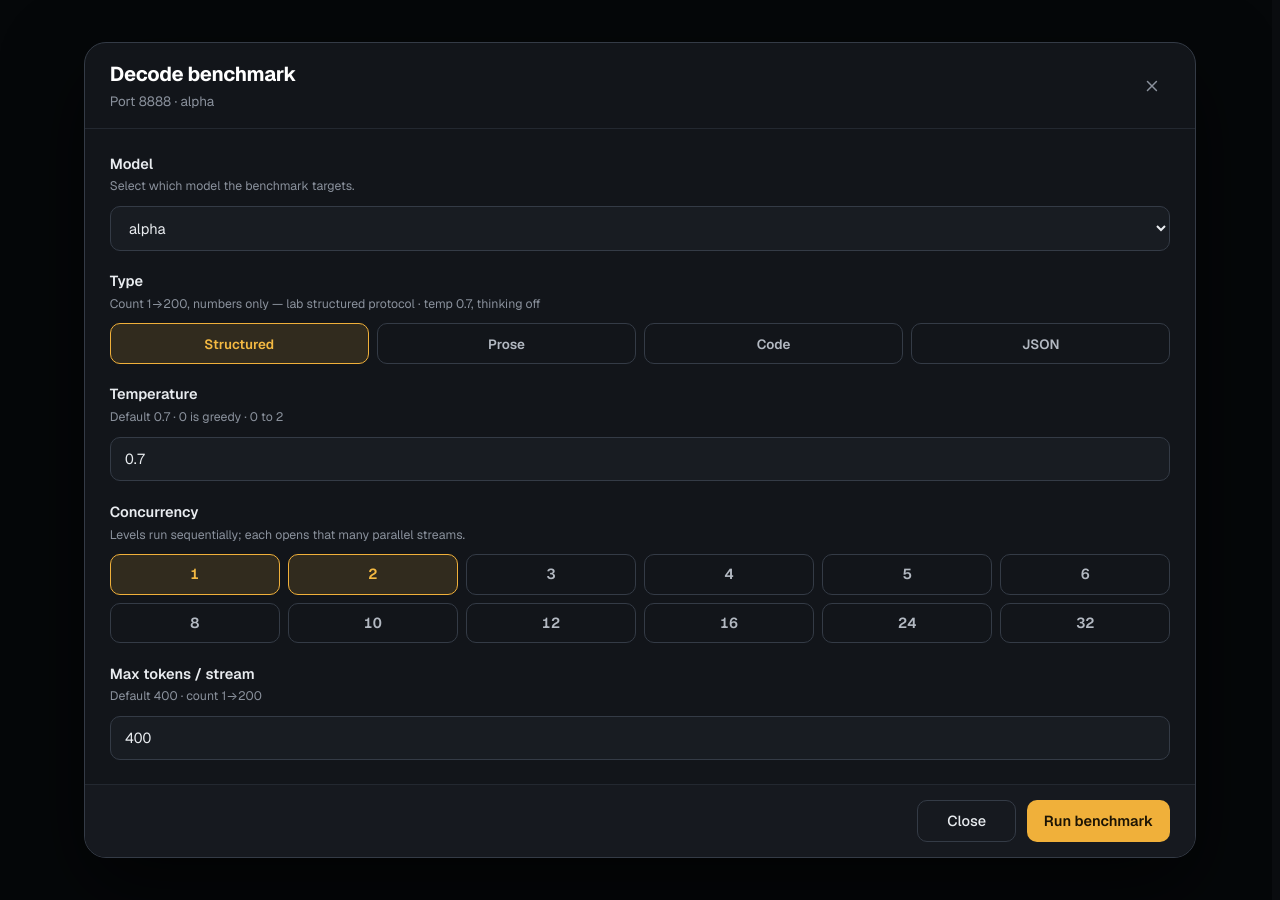
Scenario: decode served-model selection › disables an empty/unavailable discovered list rather than using the old display model
Select "beta" in the dropdown labelled "Model" at (640, 228), box [110,206,1170,251]
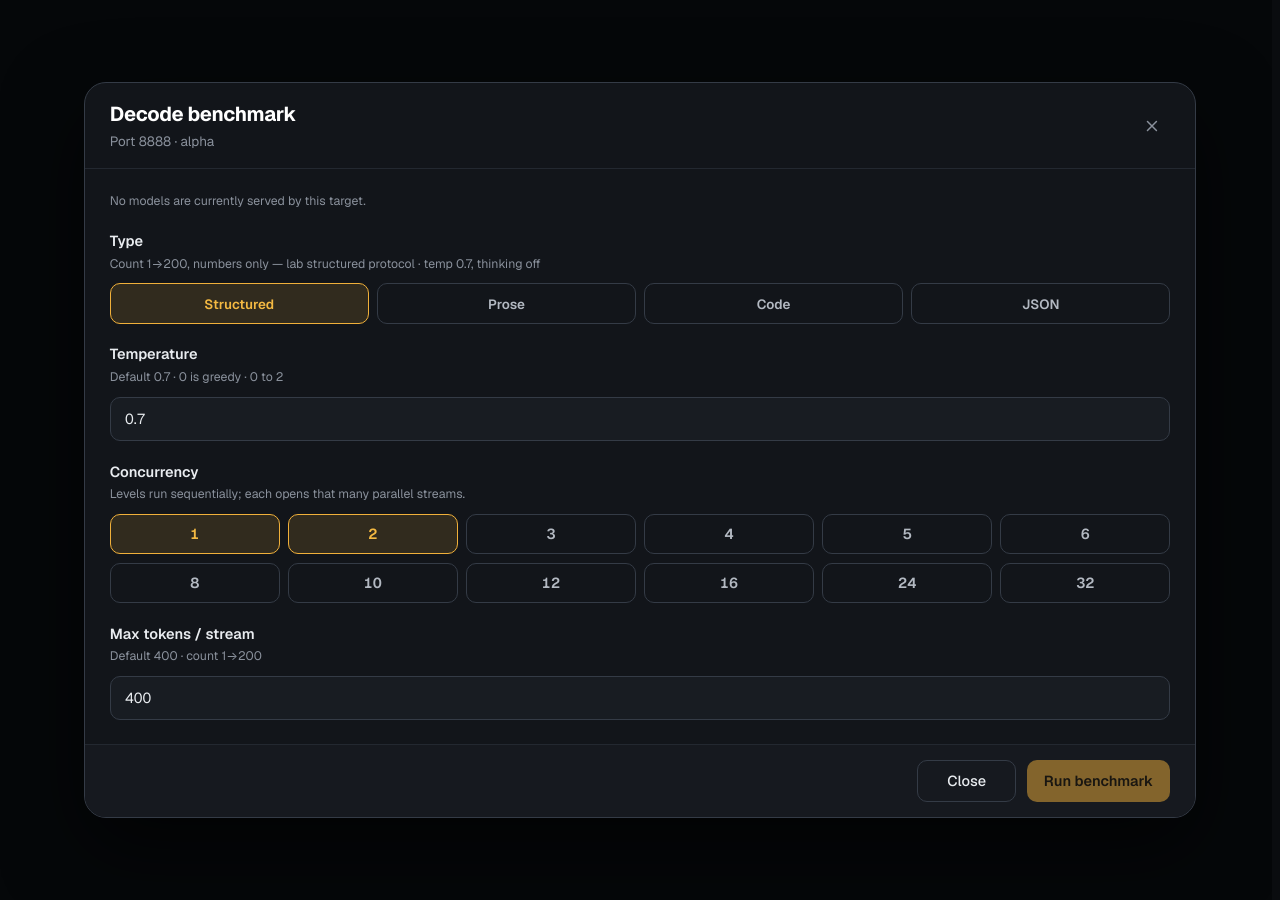
Result: the button "Run benchmark" is disabled
Result: the dropdown is gone
Result: the number of messages is 1 at [110,193,366,209]
Click the button "Run benchmark".
click(1098, 781)  # box [1027,760,1170,802]
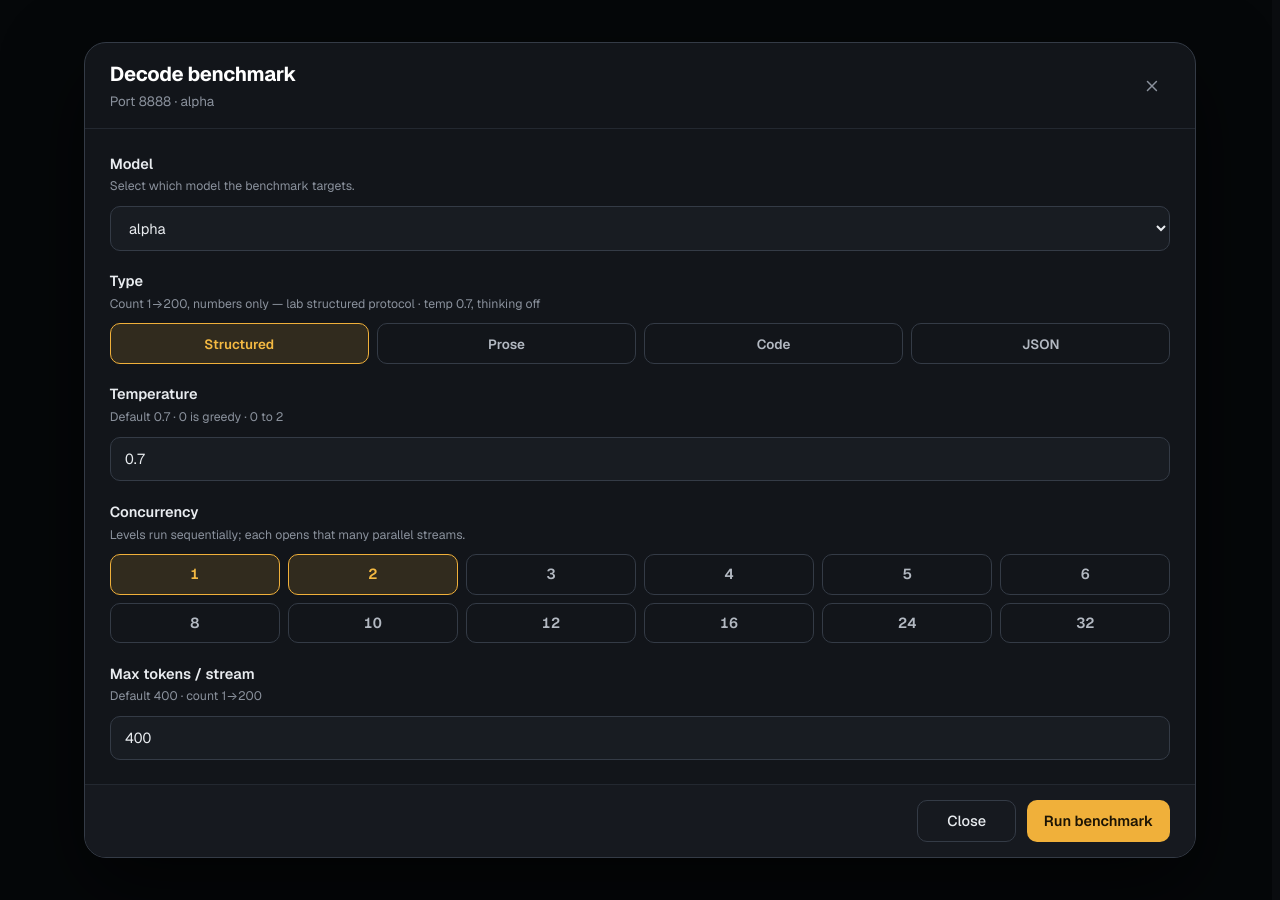
Result: the dropdown labelled "Model" shows "alpha" at [110,206,1170,251]
Result: the button "Run benchmark" is enabled at [1027,800,1170,842]
Result: the message "No models are currently served by this target." is gone
